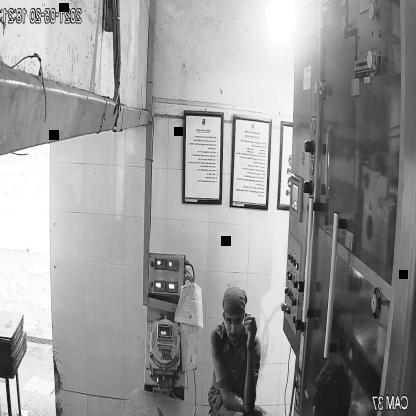no_goggles: (220, 312, 247, 334)
